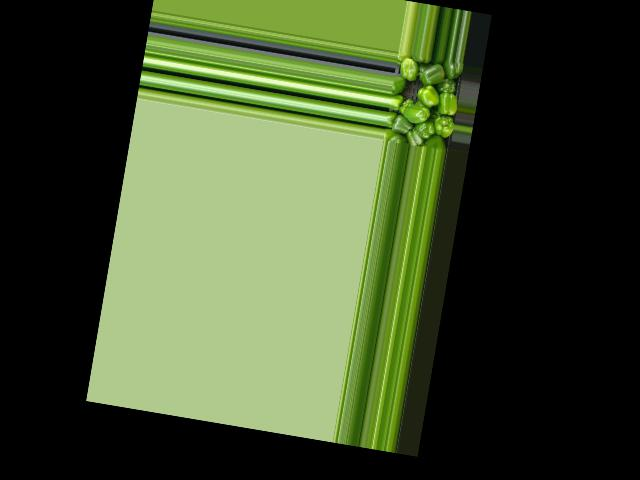bell_pepper: (421, 133, 442, 151)
